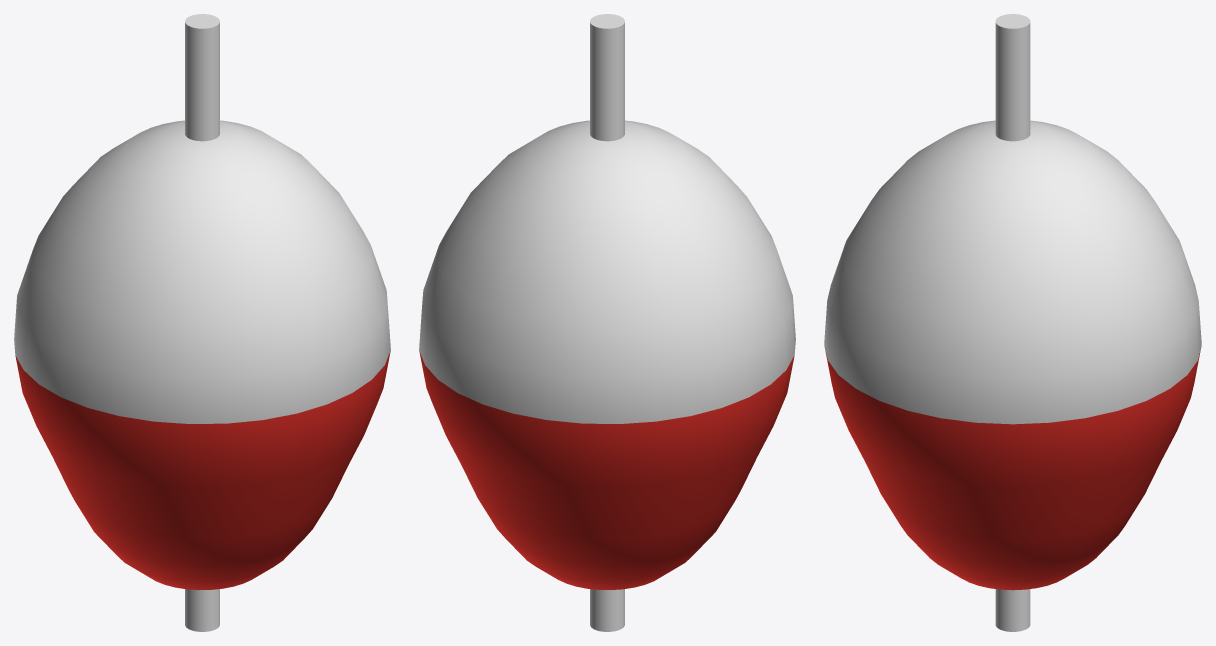
Rendered from Bobber.fbx.
3 renders of one model, left to right at view 1: azimuth 30°, elevation 25°; view 2: azimuth 150°, elevation 25°; view 3: azimuth 270°, elevation 25°, orthographic.
Parts seen in each view (by area): view 1: Sphere.004; view 2: Sphere.004; view 3: Sphere.004.
Boxes of the visible parts, left/top/right/bottom form: Sphere.004: left=14, top=14, right=390, bottom=631; Sphere.004: left=419, top=14, right=795, bottom=631; Sphere.004: left=824, top=14, right=1201, bottom=631.
Bounding box in the file's own units: 234 × 412 × 234.
